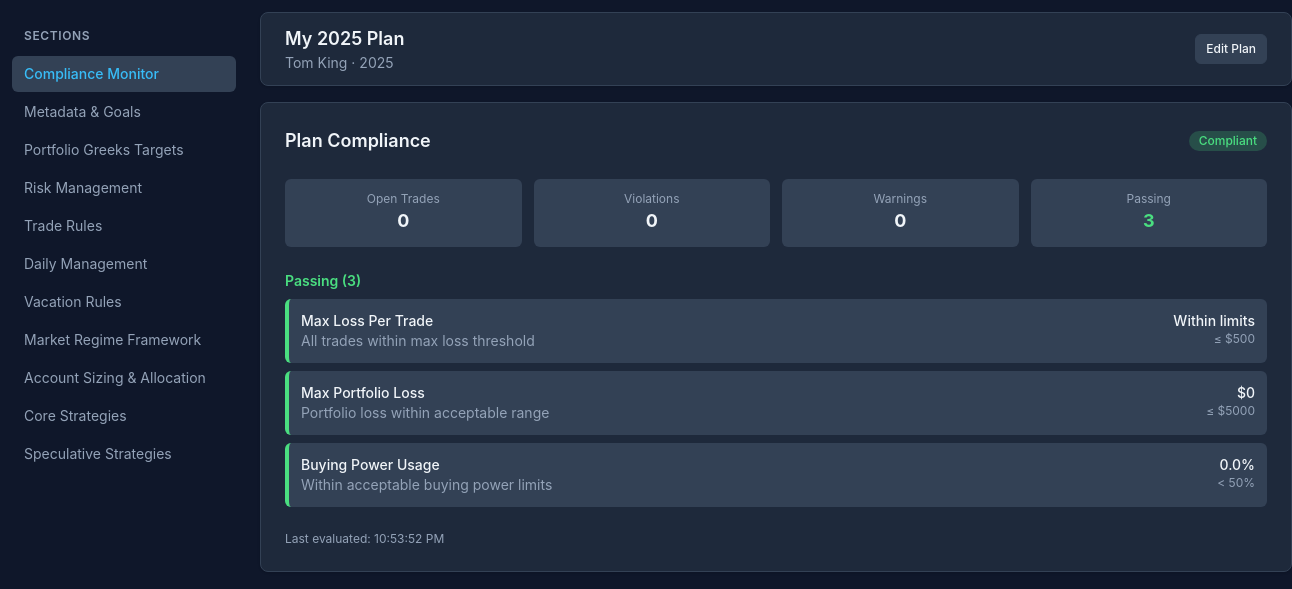
it: PlanViewer › navigates to Greeks Targets section
The width and height of the screenshot is (1292, 589).
Click the button "Portfolio Greeks Targets" at (124, 150), box [12, 132, 236, 168]
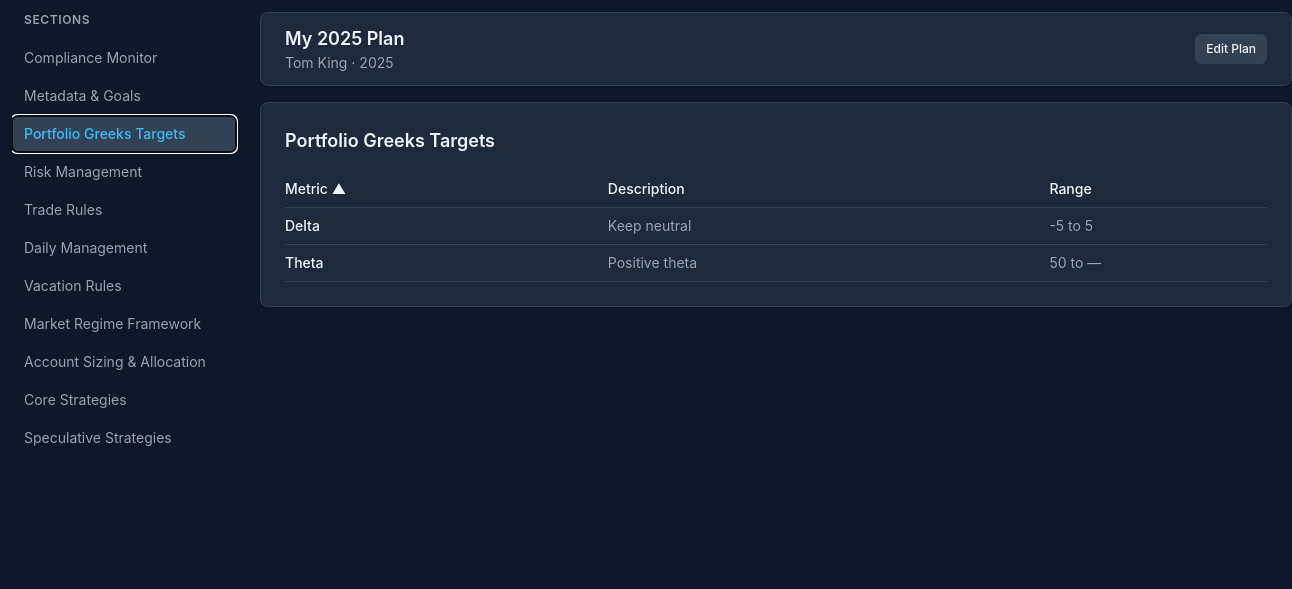
Result: the text "Delta" is shown at [285, 208, 608, 244]
Result: the text "Keep neutral" is shown at [608, 208, 1049, 244]
Result: the text "-5 to 5" is shown at [1049, 208, 1267, 244]
